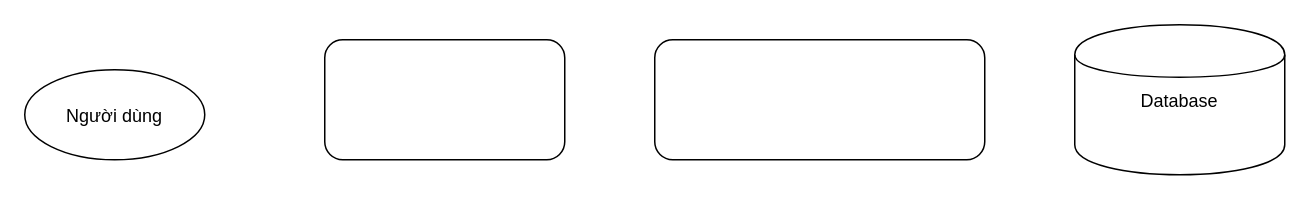
Some shapes in this 1310 by 200 pixel diagram are drawn without their labels. Here are the shapes that lost their labels. From the top down, the box of each, then its label:
(323, 38, 565, 160): WebForm UI
(653, 38, 985, 160): DAL + Stored Procedure
